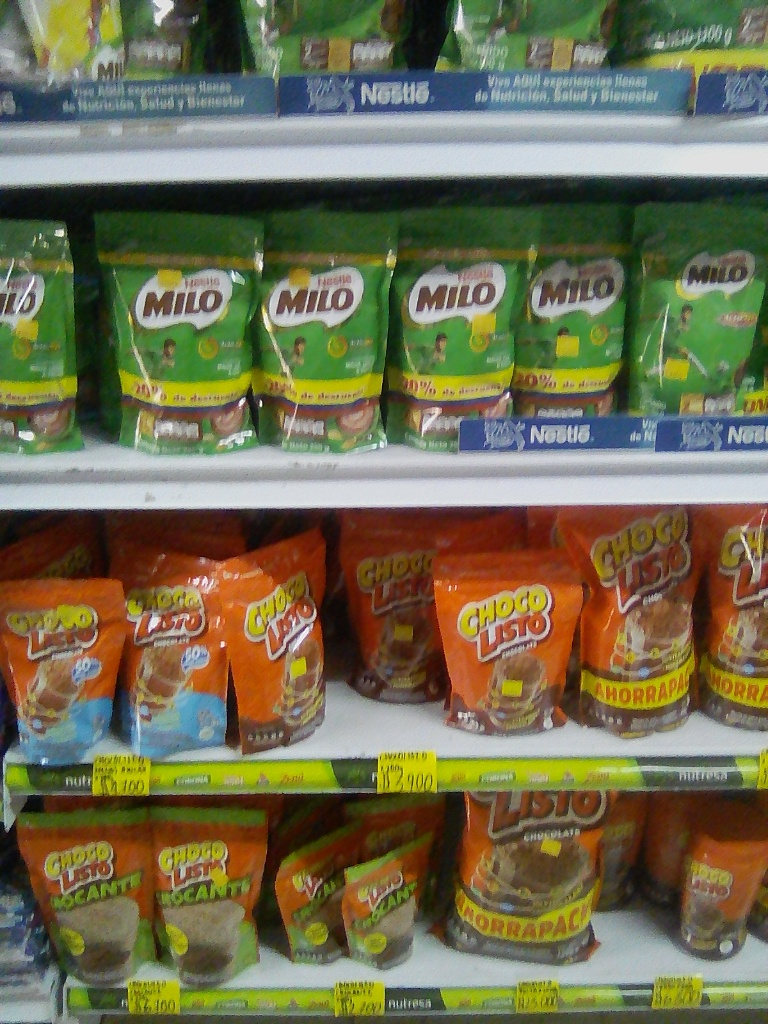COL0170102DYP10000: (335, 827, 441, 983)
COL0170102DYP25000: (0, 794, 139, 973)
COL0170103DYP1,500: (449, 791, 606, 971)
COL0170103DYP20000: (220, 542, 344, 758)
COL0170103DYP44000: (557, 506, 683, 735)
COL0170103TRR30000: (668, 801, 763, 971)
COL0170104DYP20000: (3, 569, 119, 767)
COL0170203DYP25000: (3, 204, 87, 449)
